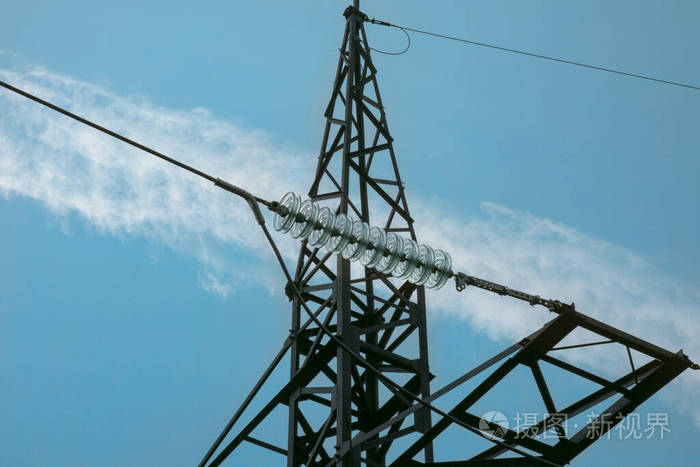insulator: (273, 191, 452, 292)
